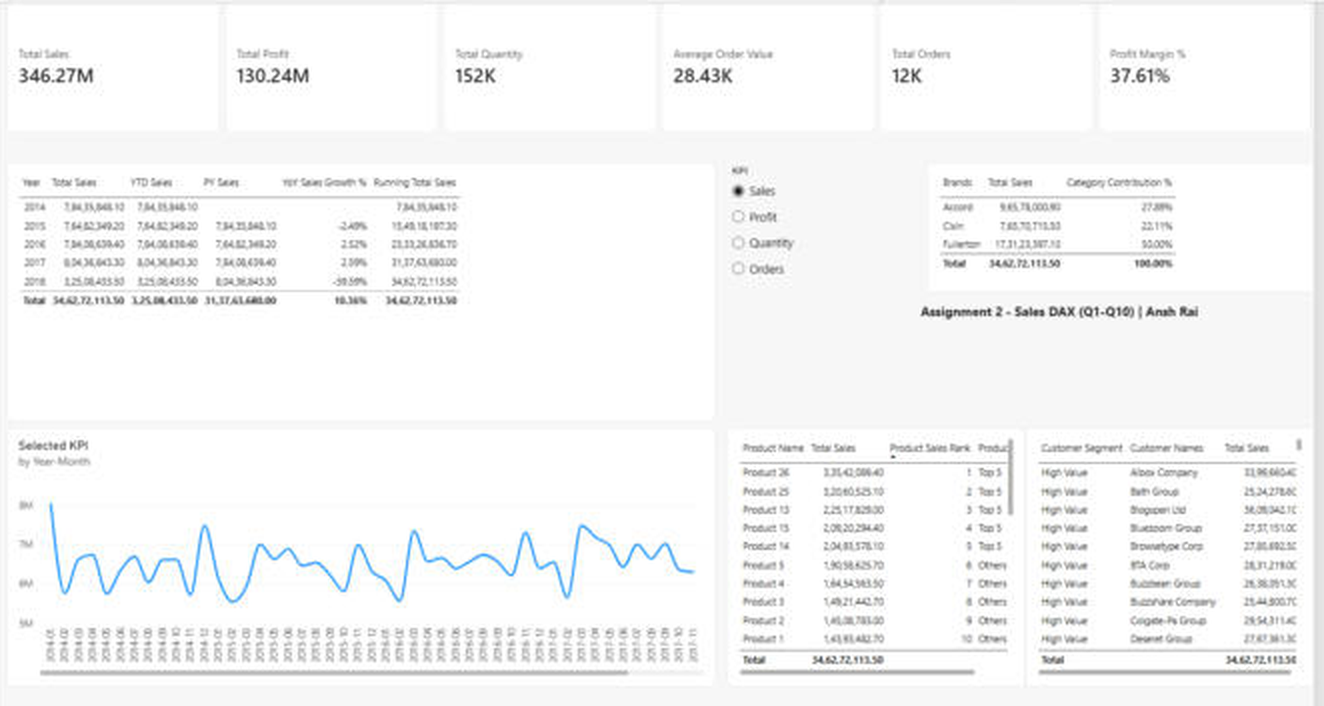

The dashboard page shown, as its layout file describes it:
{"tool":"powerbi","page":{"name":"Assignment 2 - DAX KPIs","canvas":[1920,1080],"ordinal":0},"visuals":[{"type":"cardVisual","fields":{"Data":["Sales Orders.Total Sales","Sales Orders.Total Profit","Sales Orders.Total Quantity","Sales Orders.Average Order Value","Sales Orders.Total Orders","Sales Orders.Profit Margin %"]},"box":[10.6,0,1910,191.5],"z":0},{"type":"tableEx","fields":{"Values":["Date.Year","Sales Orders.Total Sales","Sales Orders.YTD Sales","Sales Orders.PY Sales","Sales Orders.YoY Sales Growth %","Sales Orders.Running Total Sales"]},"box":[10.6,235.4,1036.1,379.1],"z":1},{"type":"slicer","fields":{"Values":["KPI Selector.KPI"]},"box":[1062.7,239.4,278,375.1],"z":2},{"type":"lineChart","fields":{"Category":["Date.Year-Month"],"Y":["Sales Orders.Selected KPI"]},"box":[11,624,1036,379],"z":3},{"type":"tableEx","fields":{"Values":["Sales Orders.Brands","Sales Orders.Total Sales","Sales Orders.Category Contribution %"]},"box":[1355.3,235.4,565.3,190],"z":4},{"type":"tableEx","fields":{"Values":["Products.Product Name","Sales Orders.Total Sales","Sales Orders.Product Sales Rank","Products.Product Group"]},"box":[1062.7,623.8,436.3,379.1],"z":5},{"type":"tableEx","fields":{"Values":["Customers.Customer Segment","Customers.Customer Names","Sales Orders.Total Sales"]},"box":[1499,624,421,379],"z":6},{"type":"textbox","box":[1346,440,560,120],"z":7}]}

Visuals, with their boxes on the page's 1920x1080 design canvas (x1, y1, x2, y2). These are canvas units, not pixel positions in the 1324x706 screenshot, which may show the page scaled, cropped or inside an application window:
cardVisual - Sales Orders.Total Sales x Sales Orders.Total Profit: <bbox>11, 0, 1921, 192</bbox>
tableEx - Date.Year x Sales Orders.Total Sales: <bbox>11, 235, 1047, 614</bbox>
slicer - KPI Selector.KPI: <bbox>1063, 239, 1341, 614</bbox>
lineChart - Date.Year-Month x Sales Orders.Selected KPI: <bbox>11, 624, 1047, 1003</bbox>
tableEx - Sales Orders.Brands x Sales Orders.Total Sales: <bbox>1355, 235, 1921, 425</bbox>
tableEx - Products.Product Name x Sales Orders.Total Sales: <bbox>1063, 624, 1499, 1003</bbox>
tableEx - Customers.Customer Segment x Customers.Customer Names: <bbox>1499, 624, 1920, 1003</bbox>
textbox: <bbox>1346, 440, 1906, 560</bbox>
